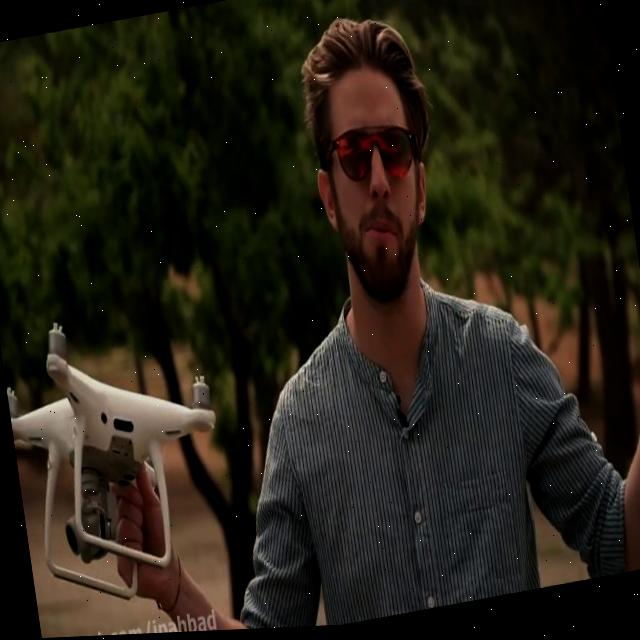drone: (0, 291, 239, 619)
